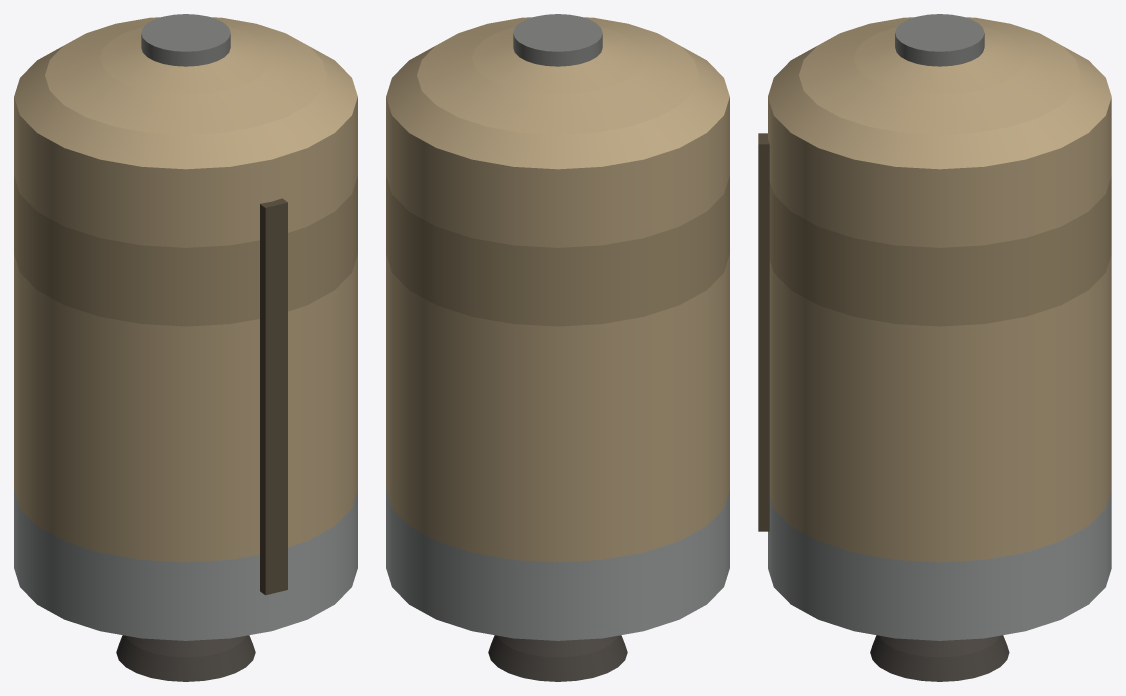
File: rb-cyl-proton.obj
3 renders of one model, left to right at view 1: azimuth 30°, elevation 25°; view 2: azimuth 150°, elevation 25°; view 3: azimuth 270°, elevation 25°, orthographic.
Visible parts, largest first — view 1: rb-cyl-proton; view 2: rb-cyl-proton; view 3: rb-cyl-proton.
Part boxes in pixels (<box>): rb-cyl-proton: <box>14,14,357,681</box>; rb-cyl-proton: <box>386,14,729,681</box>; rb-cyl-proton: <box>758,14,1111,681</box>.
Bounding box in the file's own units: 0.37 × 0.7357 × 0.3804.
